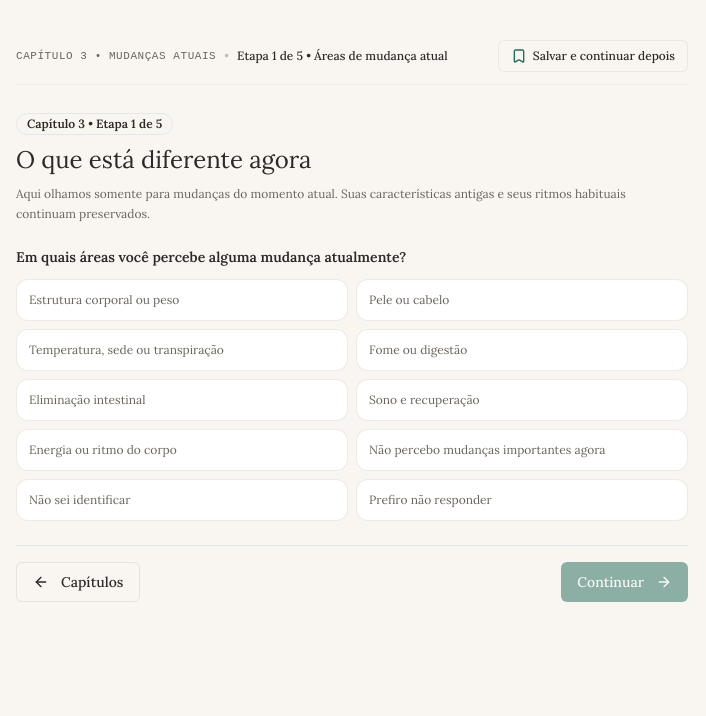
Scenario: Capítulo 3 — contexto de medicamentos e suplementos › abre detalhes somente quando necessário e exige apenas o nome do item
Expected: the heading "O que está diferente agora" is shown, [16,144,311,175]
Click the button "Não percebo mudanças importantes agora" at [522, 450], box [356,429,688,471]
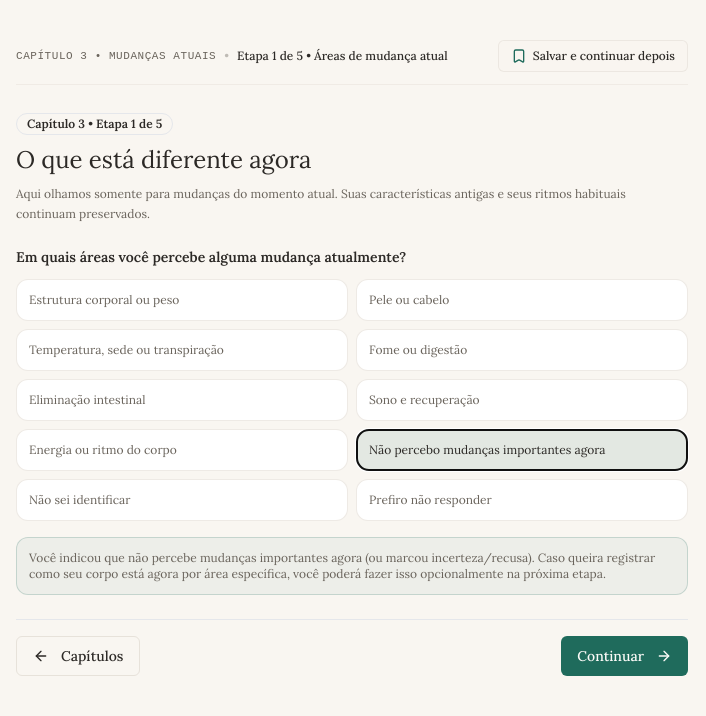
Click the button "Continuar" at [625, 656], box [561,636,688,676]
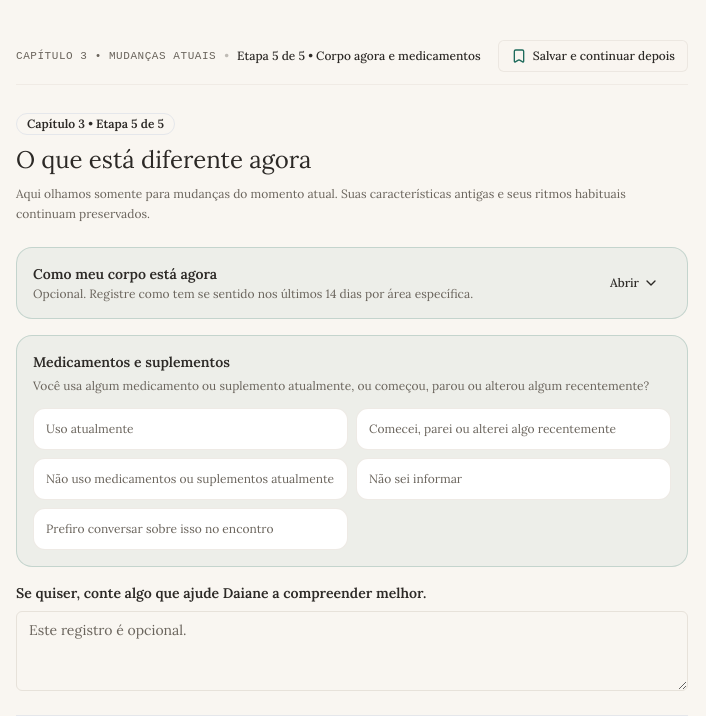
Expected: the heading "Medicamentos e suplementos" is shown, [33,353,230,371]
Click the button "Uso atualmente" at [90, 428], box [33,408,348,450]
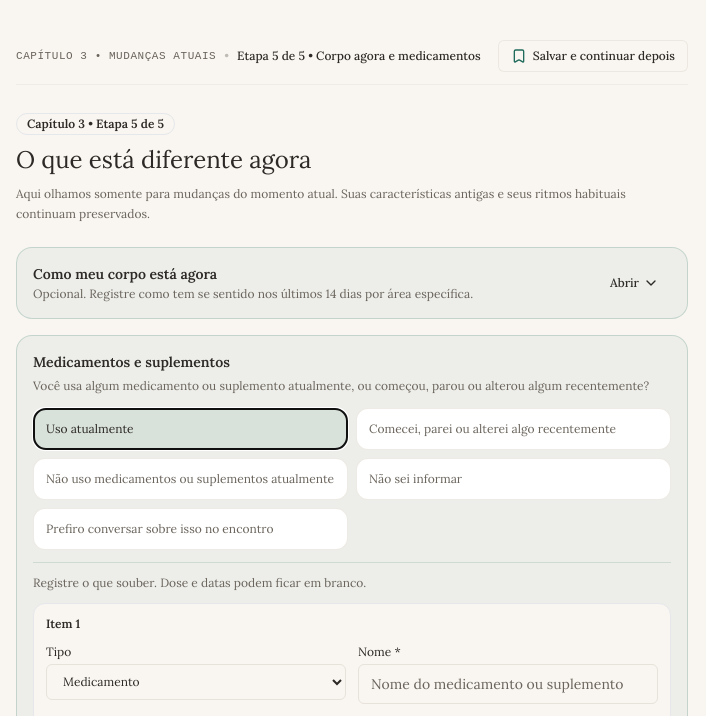
Expected: the field with placeholder "Nome do medicamento ou suplemento" is shown
Type "Medicamento informado" into the field with placeholder "Nome do medicamento ou suplemento" at [508, 684], box [358,664,658,704]
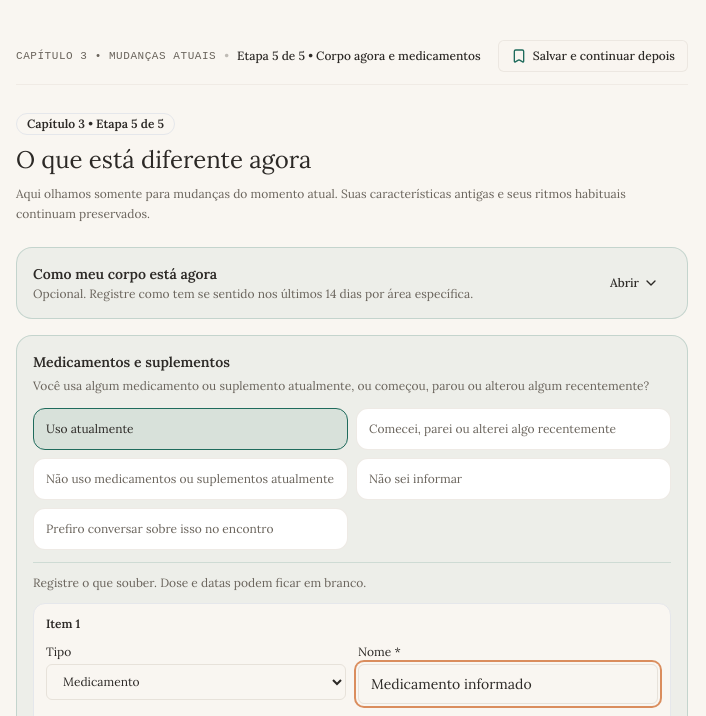
Press Tab
(page scrolled)
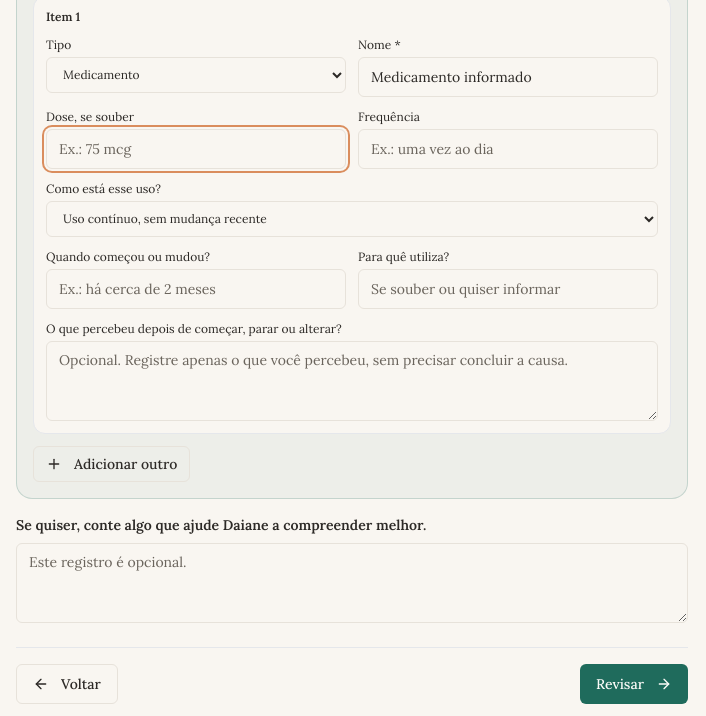
Expected: the button "Revisar" is enabled
Click the button "Revisar" at [634, 684], box [580,664,688,704]
(page scrolled)
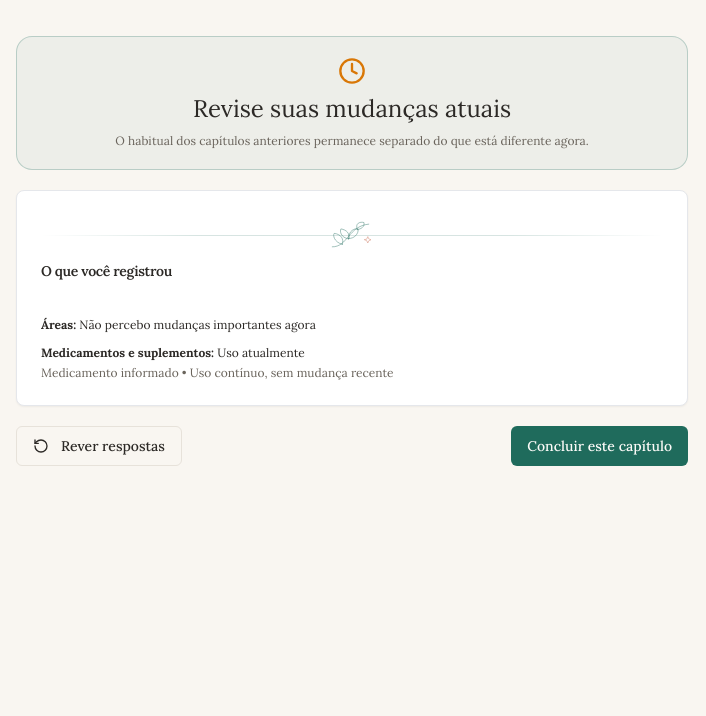
Expected: the text "Medicamento informado • Uso contínuo, sem mudança recente" is shown, [41,365,394,380]
